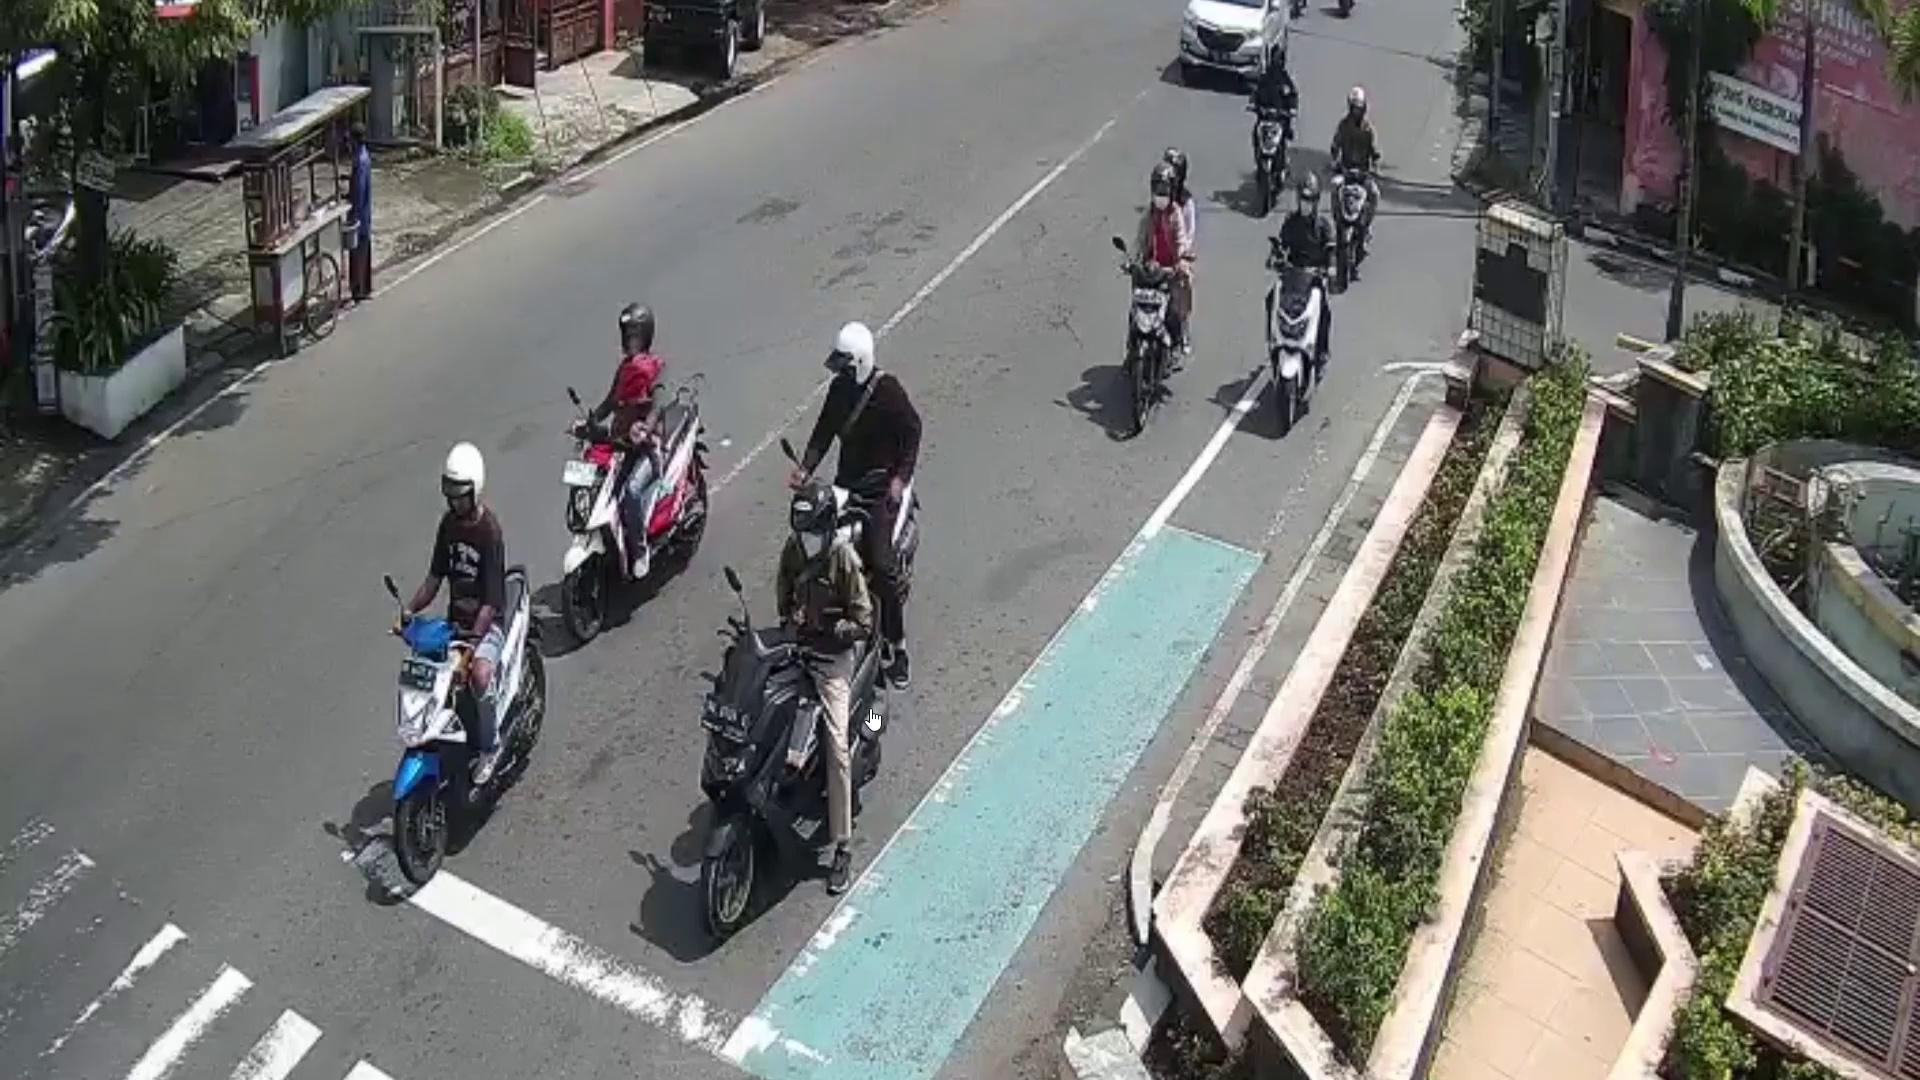car: (1178, 0, 1286, 84)
motorbike: (699, 607, 885, 943), (389, 560, 543, 890), (560, 388, 702, 645), (1121, 258, 1174, 436), (1267, 257, 1313, 430), (1332, 164, 1375, 297), (1247, 100, 1290, 200)
